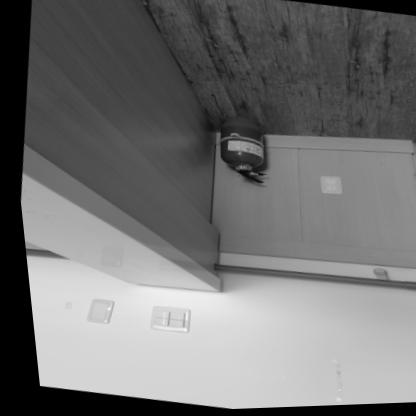FE: (206, 111, 272, 188)
